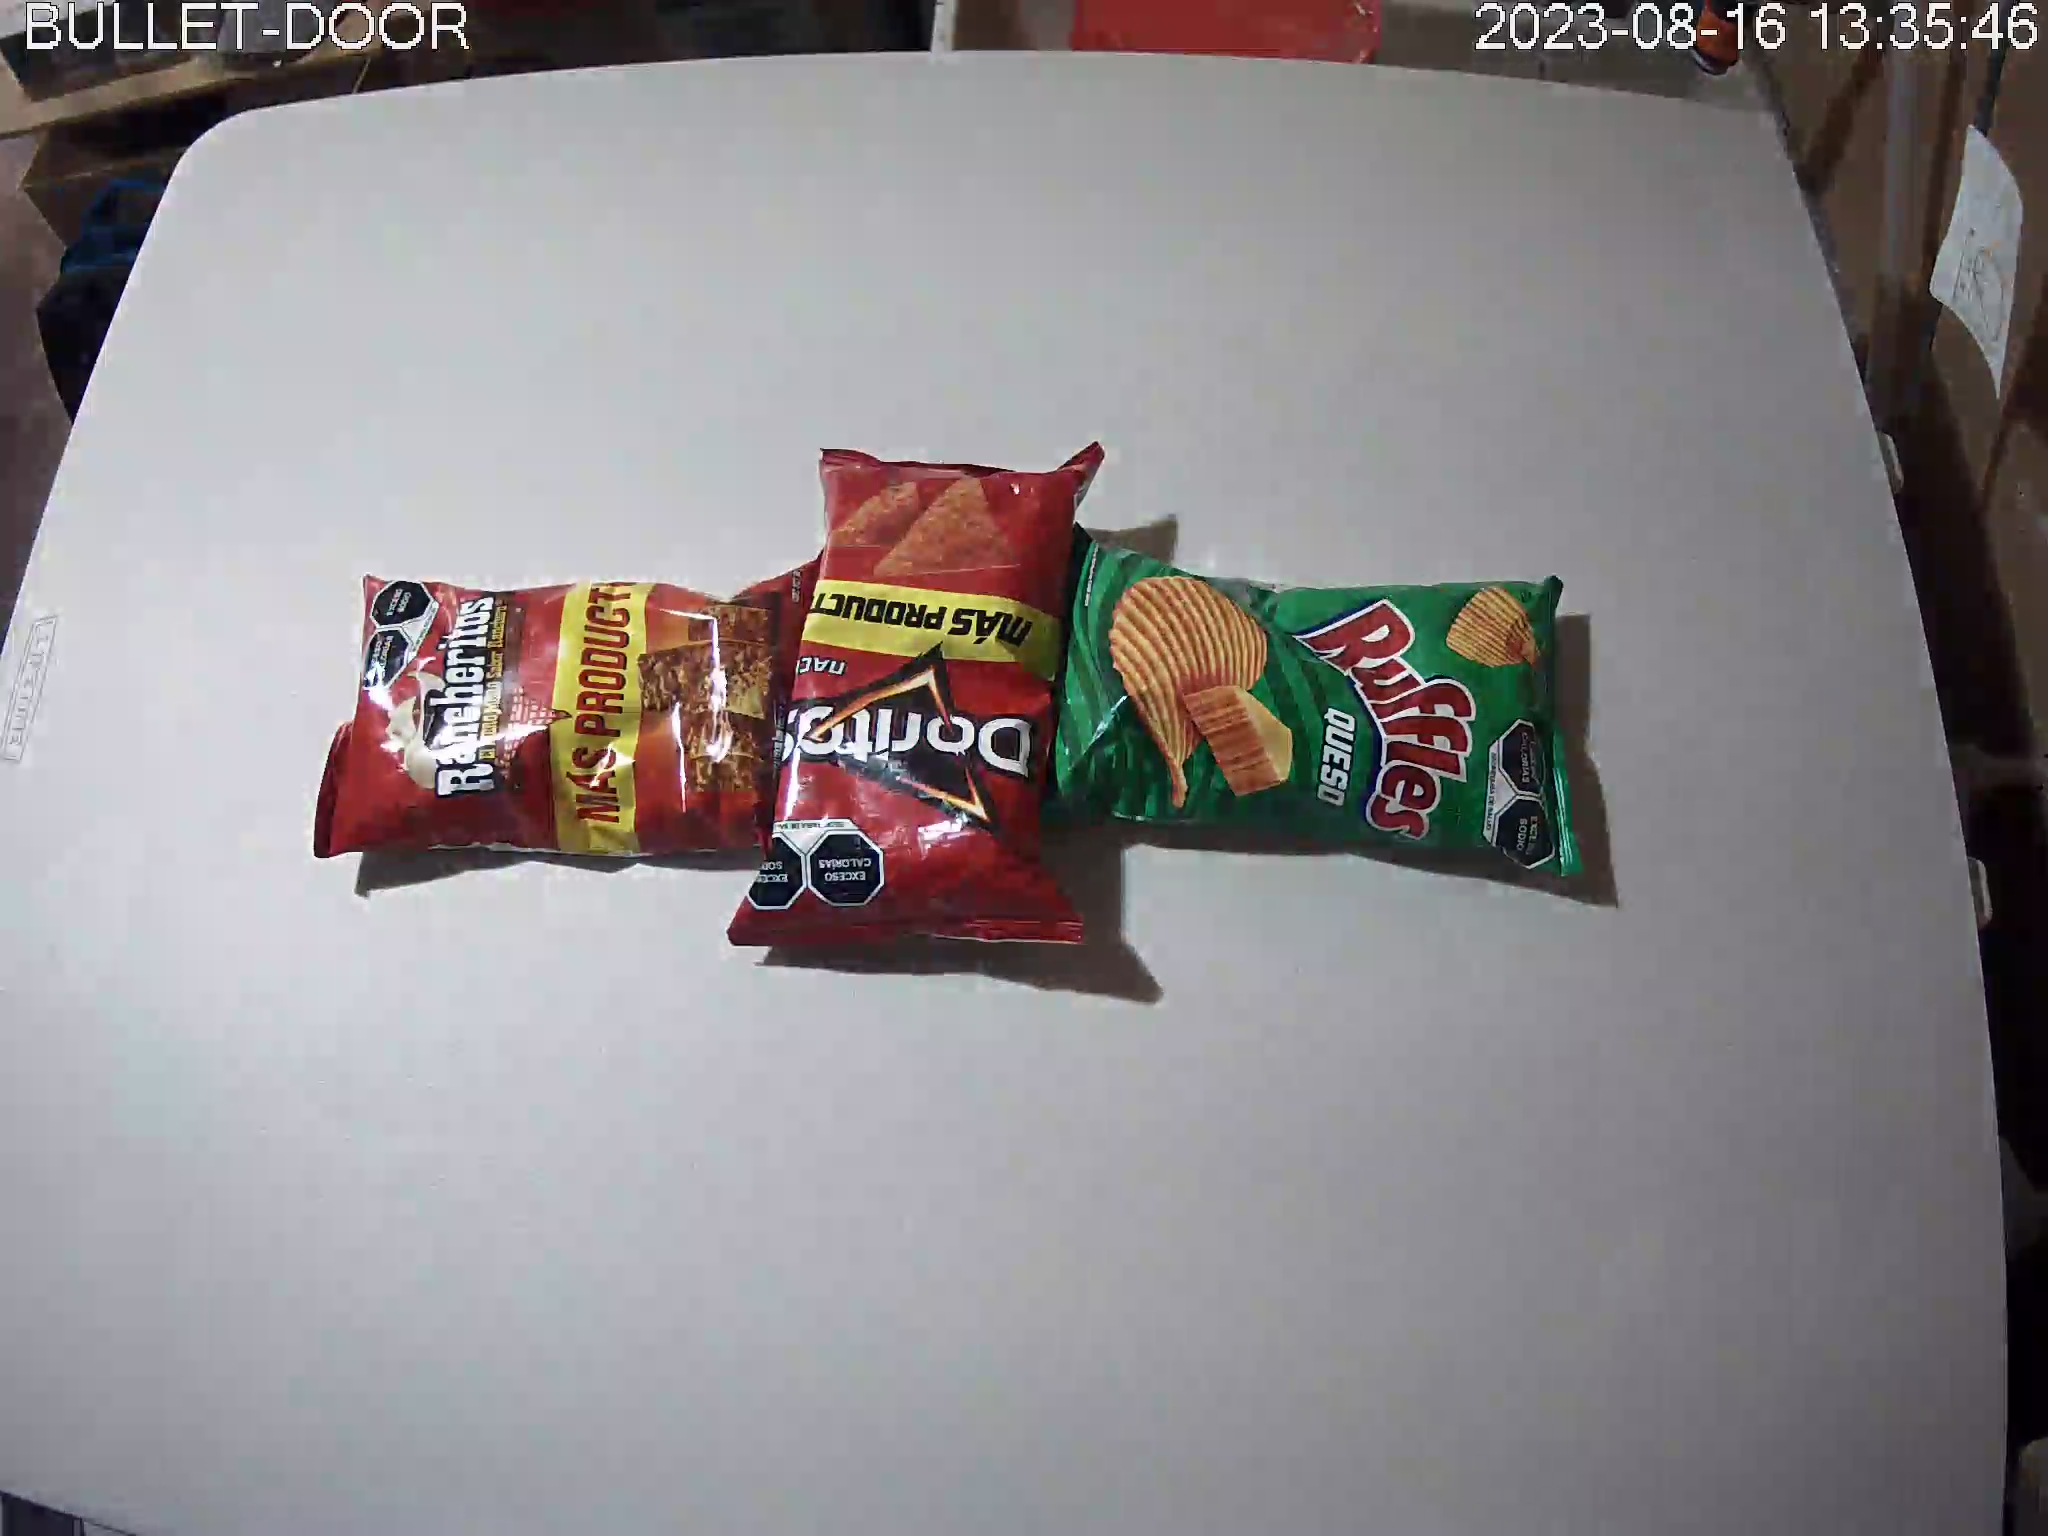DoritosN_61_F: (727, 444, 1108, 955)
Rancheritos_58_F: (314, 549, 826, 870)
RufflesQ_48_F: (1030, 520, 1588, 884)
